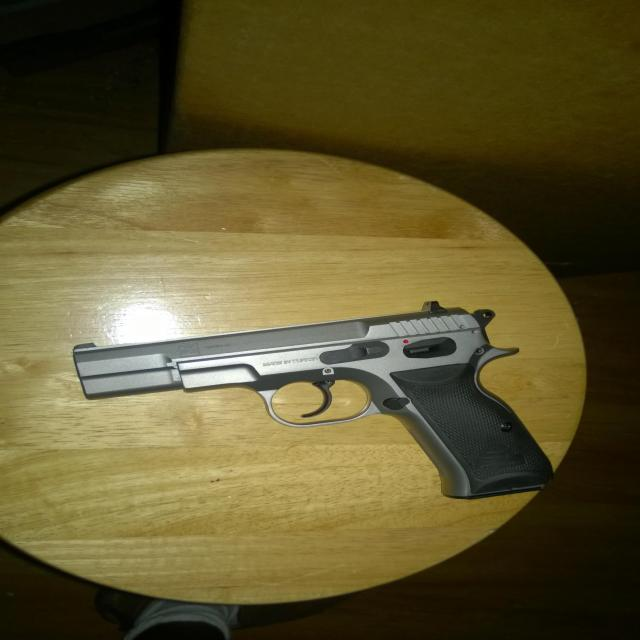pistol: (71, 301, 552, 498)
